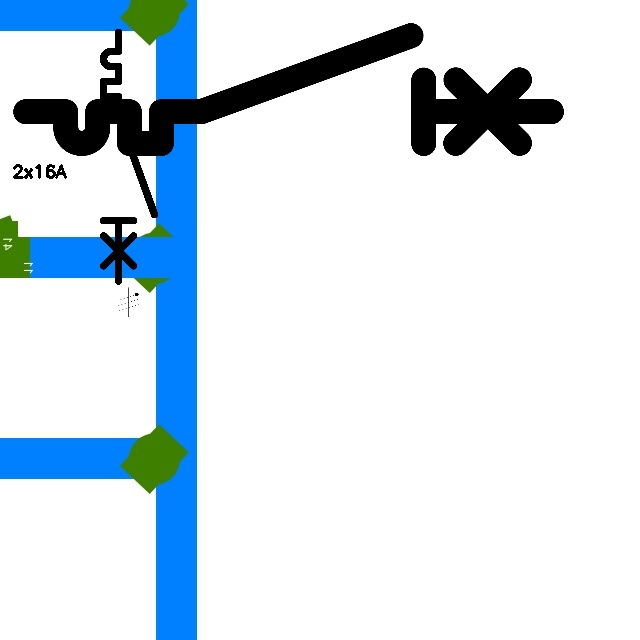interruptor_termomagnetico: (12, 22, 565, 157), (97, 26, 161, 287)
